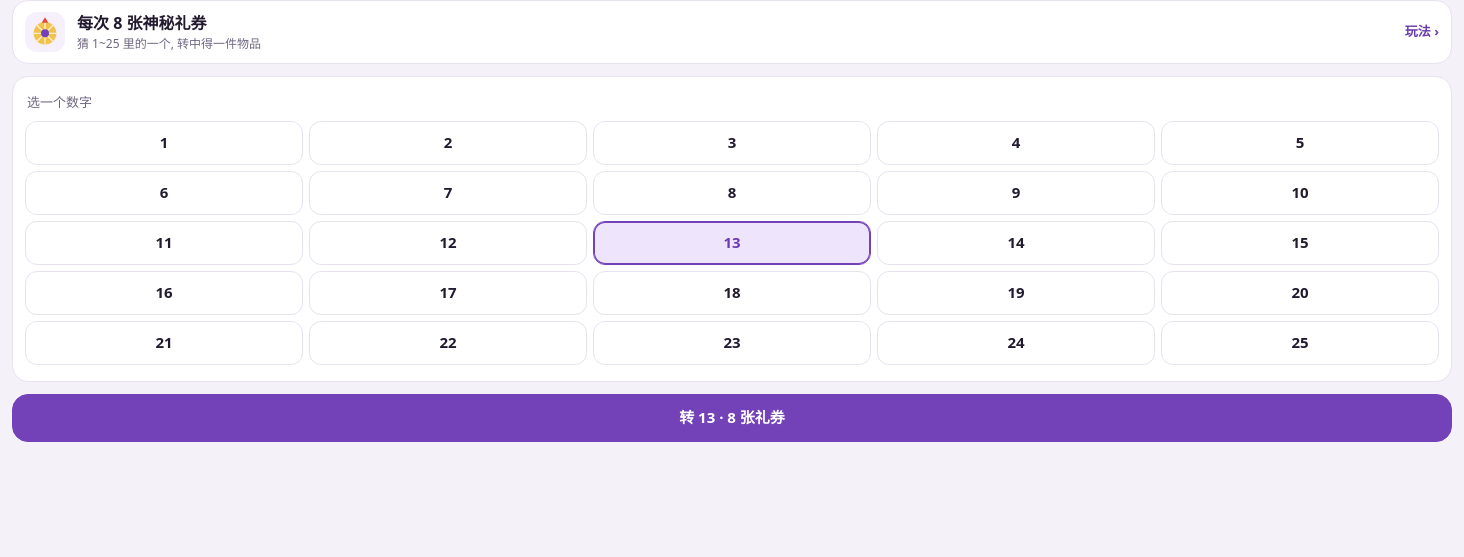
Test: NumPanel › 中奖写连续中奖次数和物品
The image size is (1464, 557).
Click the button with test id "num-spin".
click(732, 418)  # box [12,394,1452,442]
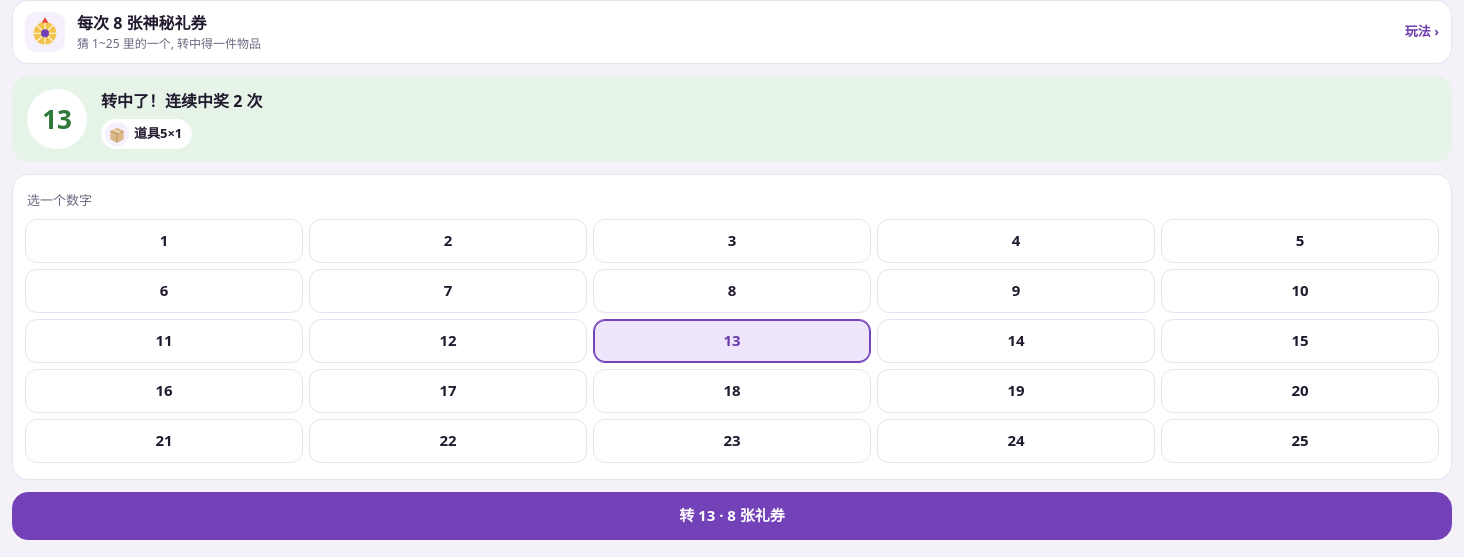
Now the text "转中了！连续中奖 2 次" is shown, box [101,89,262,113]
Now the elements with test id "award-chip" read "道具5×1", in this order, box [101,119,192,149]
